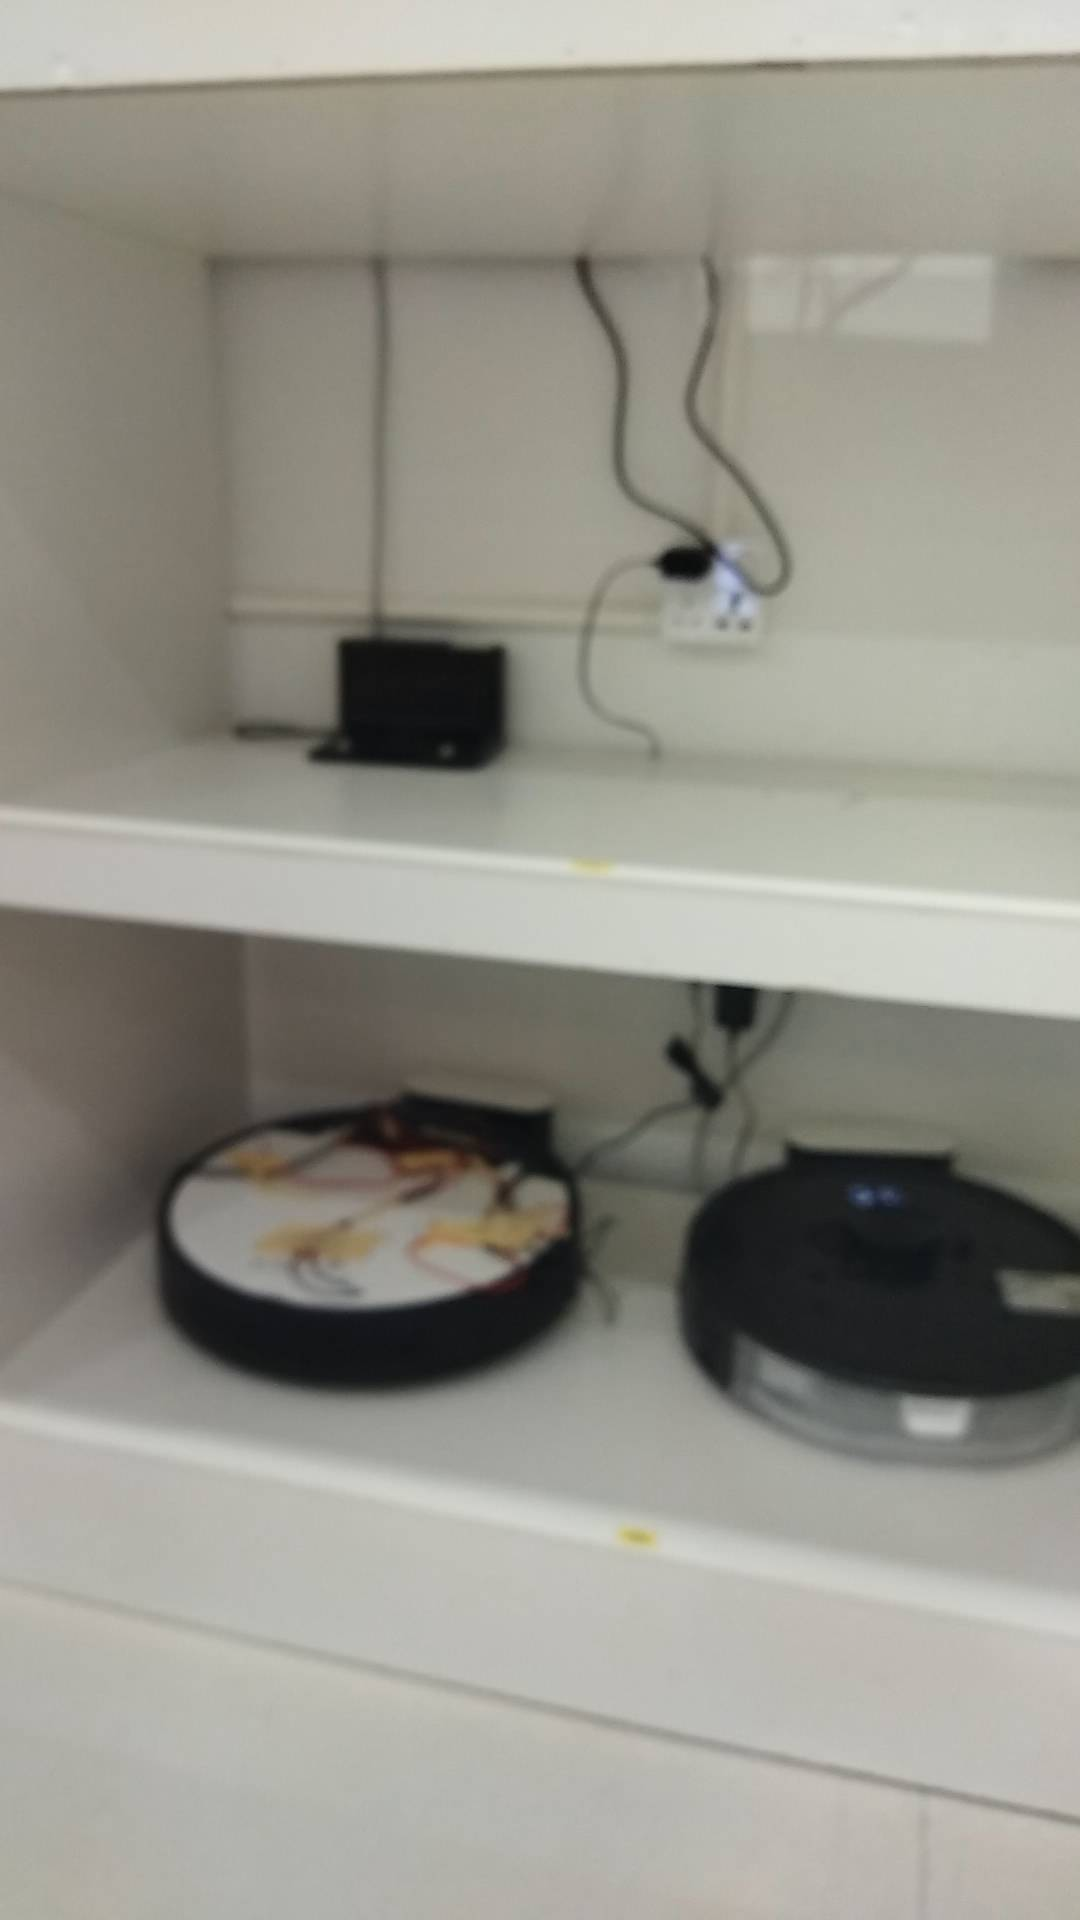recharge seat: (311, 629, 516, 779), (400, 1062, 570, 1138), (770, 1113, 971, 1178)
